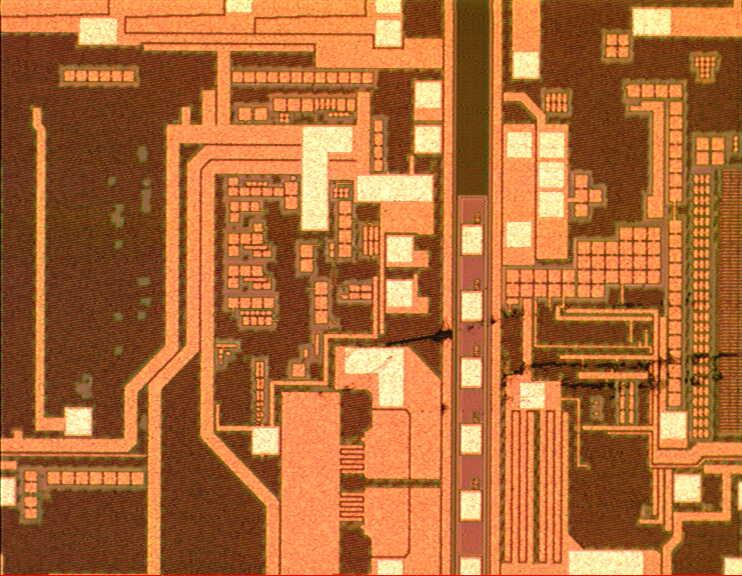SCRATCH: (301, 288, 742, 426)
